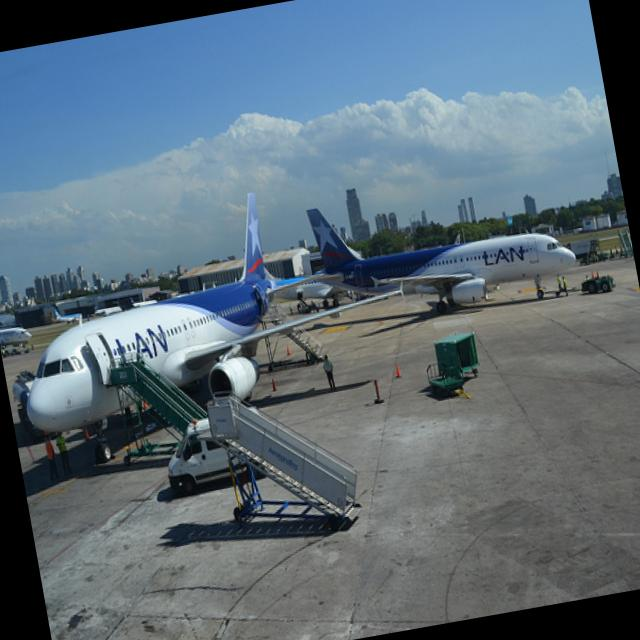Vehicle: (156, 410, 260, 496)
